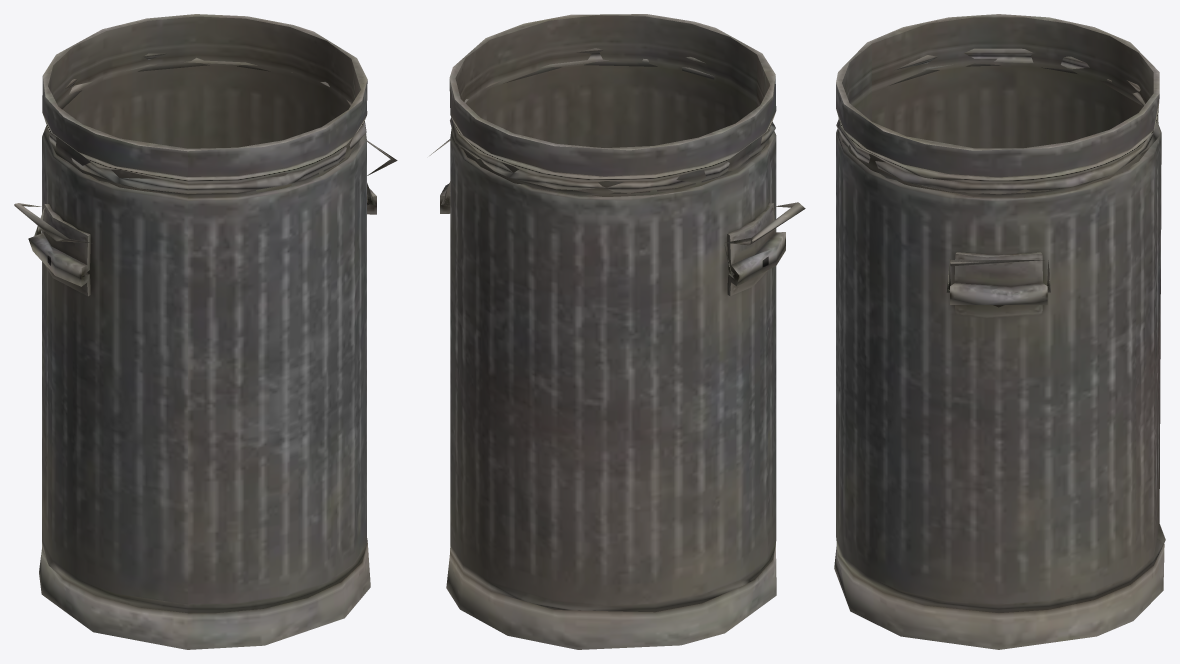
File: bin.glb
3 renders of one model, left to right at view 1: azimuth 30°, elevation 25°; view 2: azimuth 150°, elevation 25°; view 3: azimuth 270°, elevation 25°, orthographic.
Parts seen in each view (by area): view 1: metal_trash_can_handle_left; view 2: metal_trash_can_handle_left; view 3: metal_trash_can_handle_left.
Part boxes in pixels (<box>): metal_trash_can_handle_left: <box>14,14,397,649</box>; metal_trash_can_handle_left: <box>429,14,805,649</box>; metal_trash_can_handle_left: <box>834,14,1165,649</box>.
Size of the model in its own units: 0.6467 by 0.9062 by 0.5484.
1 material, 1 textured.
